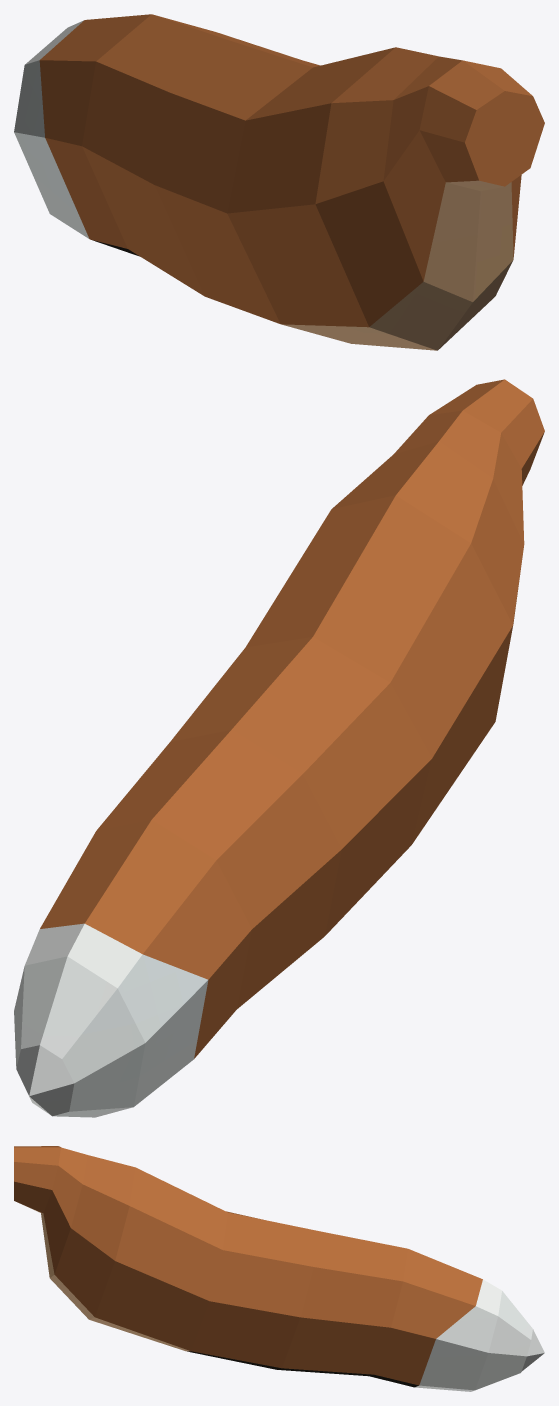
Rendered from objects-fox-tail-260.glb.
The picture shows the model from 3 angles, top to bottom: view 1: azimuth 30°, elevation 25°; view 2: azimuth 150°, elevation 25°; view 3: azimuth 270°, elevation 25°; orthographic projection. The views are drawn at different scales.
Visible parts, largest first — view 1: Geo_Foxtail; view 2: Geo_Foxtail; view 3: Geo_Foxtail.
Part boxes in pixels (left/top/right/bottom): Geo_Foxtail: left=14, top=14, right=544, bottom=350; Geo_Foxtail: left=14, top=379, right=544, bottom=1117; Geo_Foxtail: left=14, top=1146, right=544, bottom=1391.
Size of the model in its own units: 13.14 by 26.87 by 52.83.
1 material, 1 textured.
